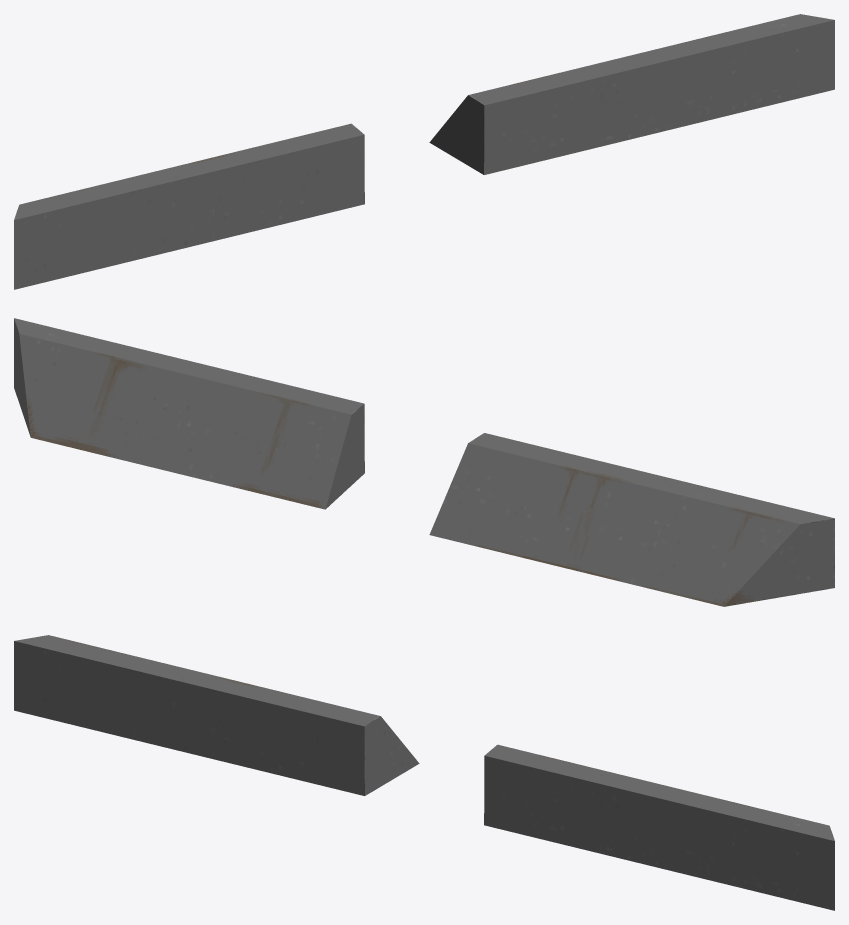
Rendered from Doorway-Vertical.fbx.
The picture shows the model from 3 angles, top to bottom: view 1: azimuth 30°, elevation 25°; view 2: azimuth 150°, elevation 25°; view 3: azimuth 330°, elevation 25°; orthographic projection.
Visible parts, largest first — view 1: Wall_Door_North; view 2: Wall_Door_North; view 3: Wall_Door_North.
Boxes of the visible parts, x1,y1,x2,y2 form: Wall_Door_North: [14, 14, 834, 289]; Wall_Door_North: [14, 318, 834, 606]; Wall_Door_North: [14, 635, 834, 910].
Size of the model in its own units: 3699 by 300 by 368.
Materials: 1 (1 with a texture image).
